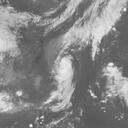cyclone: (55, 55, 74, 89)
